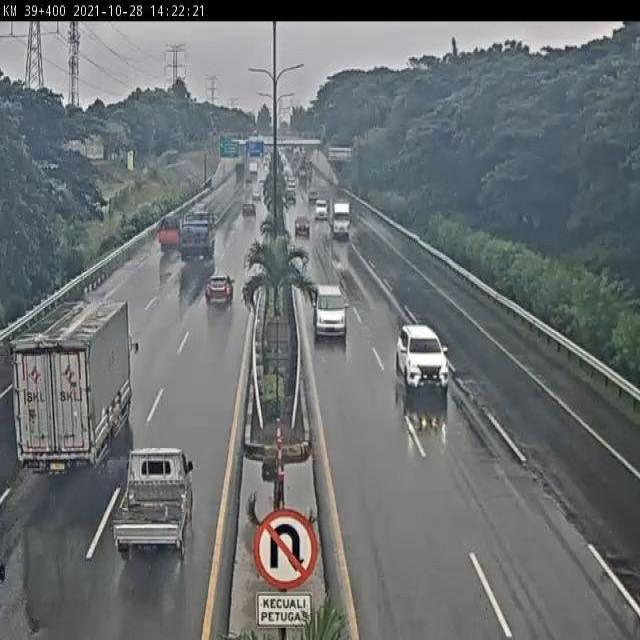car: (114, 445, 196, 564), (394, 323, 450, 393), (312, 281, 346, 339), (205, 273, 235, 308), (293, 214, 312, 238)
truck-l-: (12, 301, 132, 472), (180, 212, 218, 261)
truck-m-: (329, 196, 352, 243)
truck-s-: (157, 211, 187, 256)
